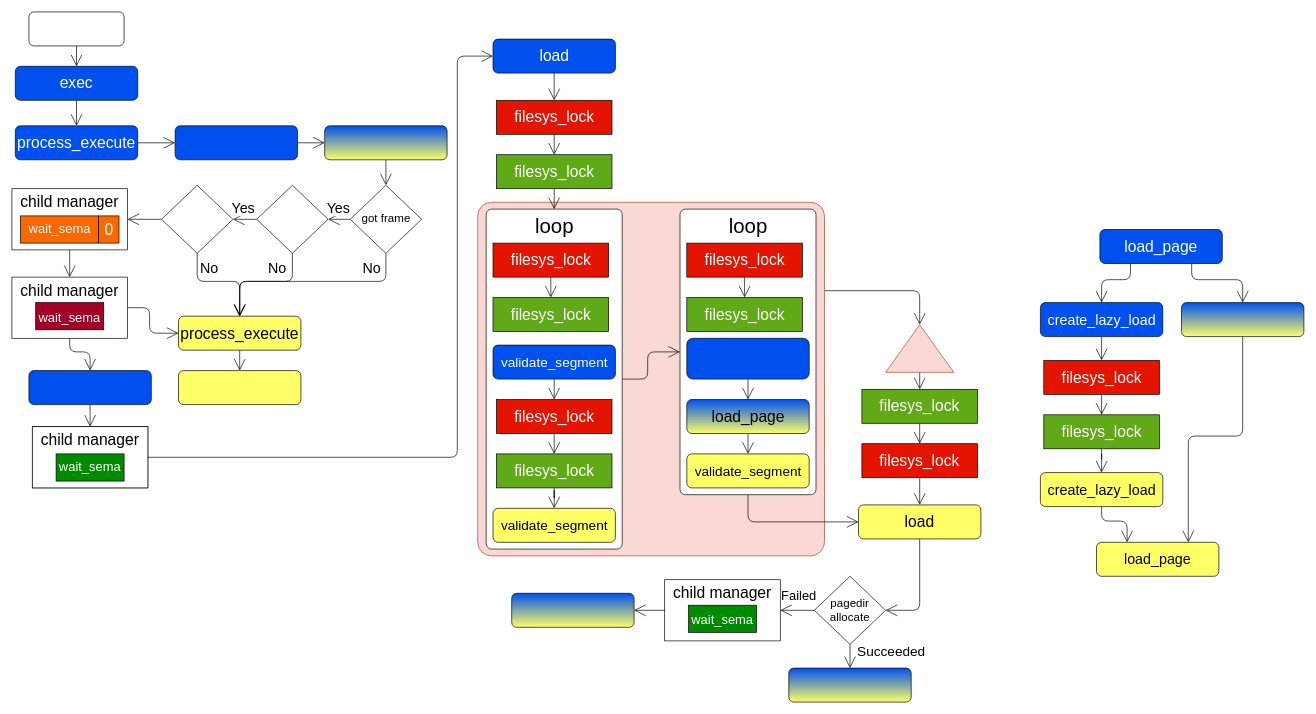
Some shapes in this 1316 by 714 pixel diagram are drawn without their labels. The shapes that lost their labels are listed below. From the top down, each one's box as (x1, y1, x2, y2) in pixels, then its label:
(28, 11, 124, 46): syscall
(174, 125, 298, 160): stack_page_setup
(324, 125, 447, 160): frame_get
(161, 185, 233, 253): created thread
(256, 185, 328, 253): populated stack
(1181, 302, 1304, 337): mmap_register
(686, 338, 809, 379): load_segment (writability pass = false)
(885, 324, 954, 372): failure!
(28, 370, 151, 405): start_process
(178, 370, 301, 405): exec (syscall)
(511, 593, 634, 627): thread_exit
(788, 667, 911, 702): run the process
